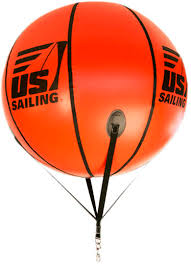buoy: (3, 2, 188, 176)
